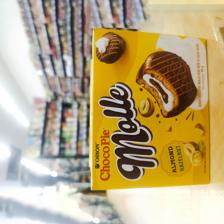Molle: (87, 24, 212, 190)
